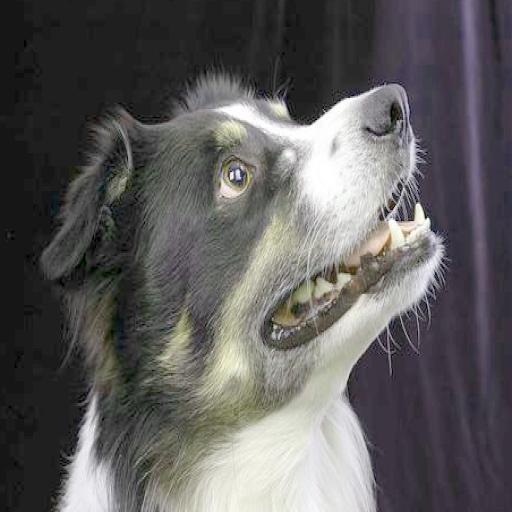dog_face: (63, 70, 442, 420)
